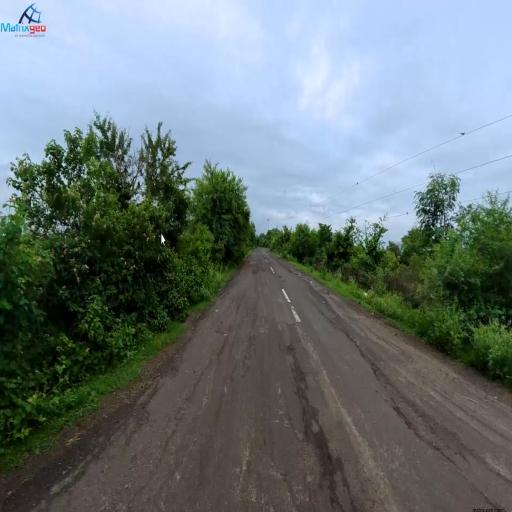edge_damage: (336, 318, 380, 369), (396, 392, 426, 444)
longitudinal_crack: (295, 350, 310, 436)
